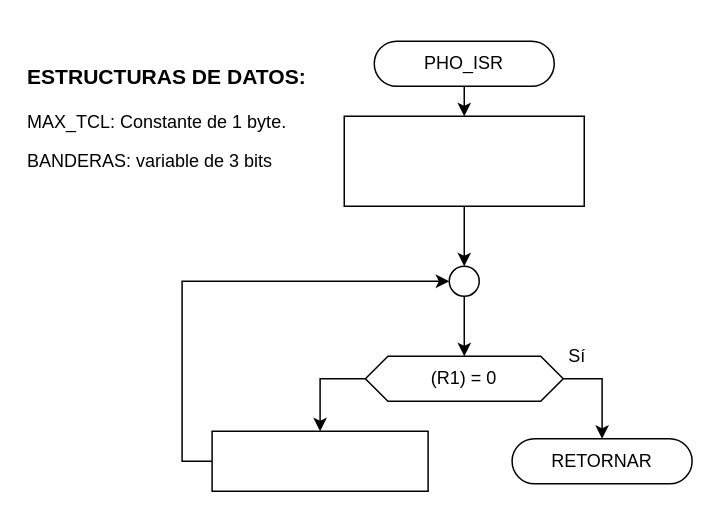
Image size: 720x518. Some labels were removed from this diagram. Each missing label, with the box of its shape:
J <- (Num_Array) BANDERAS.2 <- 0 R1 <- MAX_TCL: (343, 115, 584, 206)
R1 <- (R1) - 1 ( (J) + (R1) ) <- $FF: (211, 430, 428, 491)
